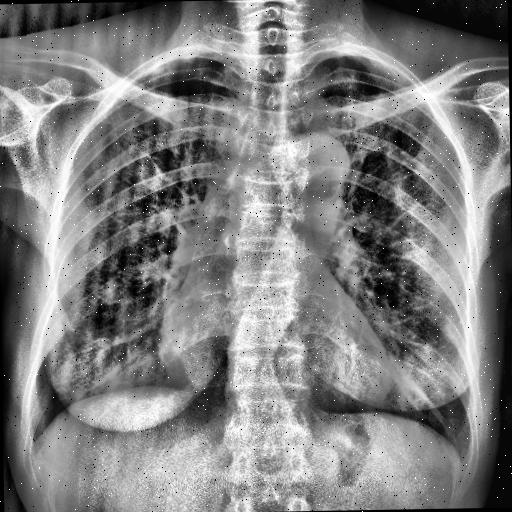0- Aortic enlargement: (174, 126, 358, 220), (188, 141, 364, 233), (244, 134, 352, 192)
3- Cardiomegaly: (146, 260, 396, 434), (128, 308, 422, 419)
